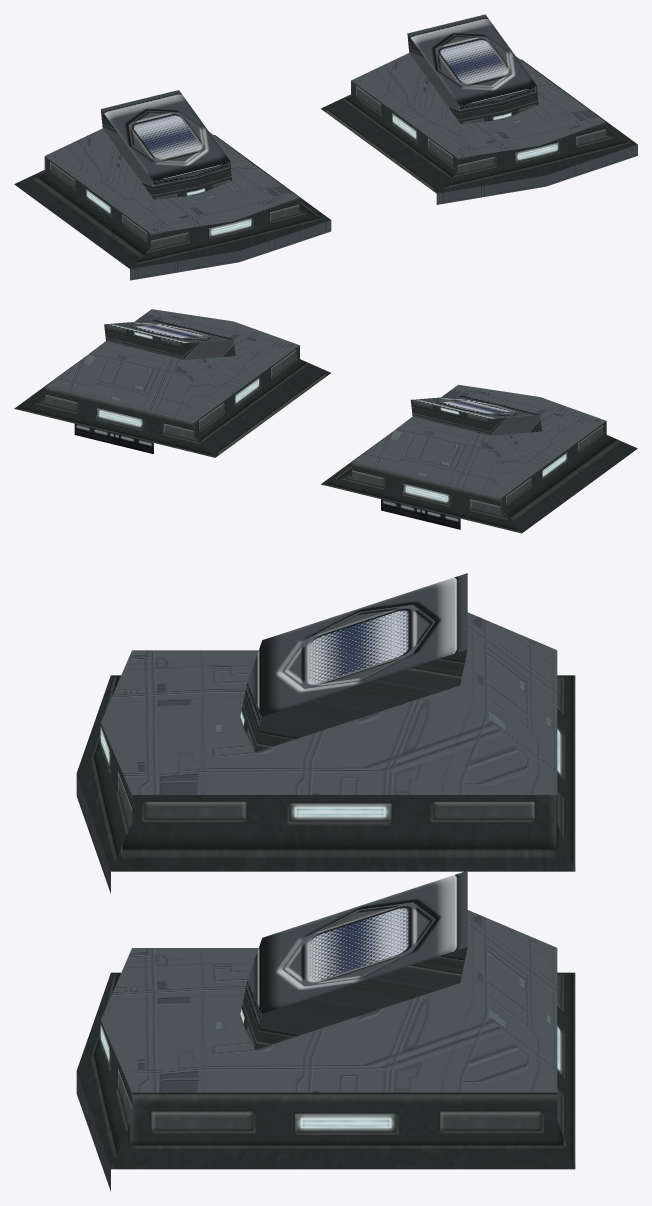
Rendered from bldg_bunkerroof.gltf.
3 views of the same model, one above another, from view 1: azimuth 30°, elevation 25°; view 2: azimuth 150°, elevation 25°; view 3: azimuth 270°, elevation 25° (orthographic). The views are drawn at different scales.
Parts seen in each view (by area): view 1: roof1_lowrez, roof_lowrez; view 2: roof1_lowrez, roof_lowrez; view 3: roof_lowrez, roof1_lowrez.
Boxes of the visible parts, x1=… form: roof1_lowrez: x1=14, y1=90, x2=331, y2=280; roof_lowrez: x1=321, y1=14, x2=637, y2=204; roof1_lowrez: x1=321, y1=384, x2=637, y2=533; roof_lowrez: x1=14, y1=309, x2=330, y2=457; roof_lowrez: x1=76, y1=871, x2=575, y2=1191; roof1_lowrez: x1=76, y1=573, x2=575, y2=893.
Size of what is drawn, in the model's own units: 40.4 by 7.02 by 17.18.
5 materials, 5 textured.
